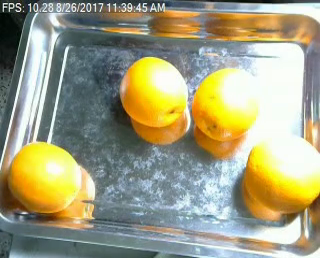Orange: (247, 132, 320, 214), (6, 140, 80, 214), (119, 57, 186, 126)
